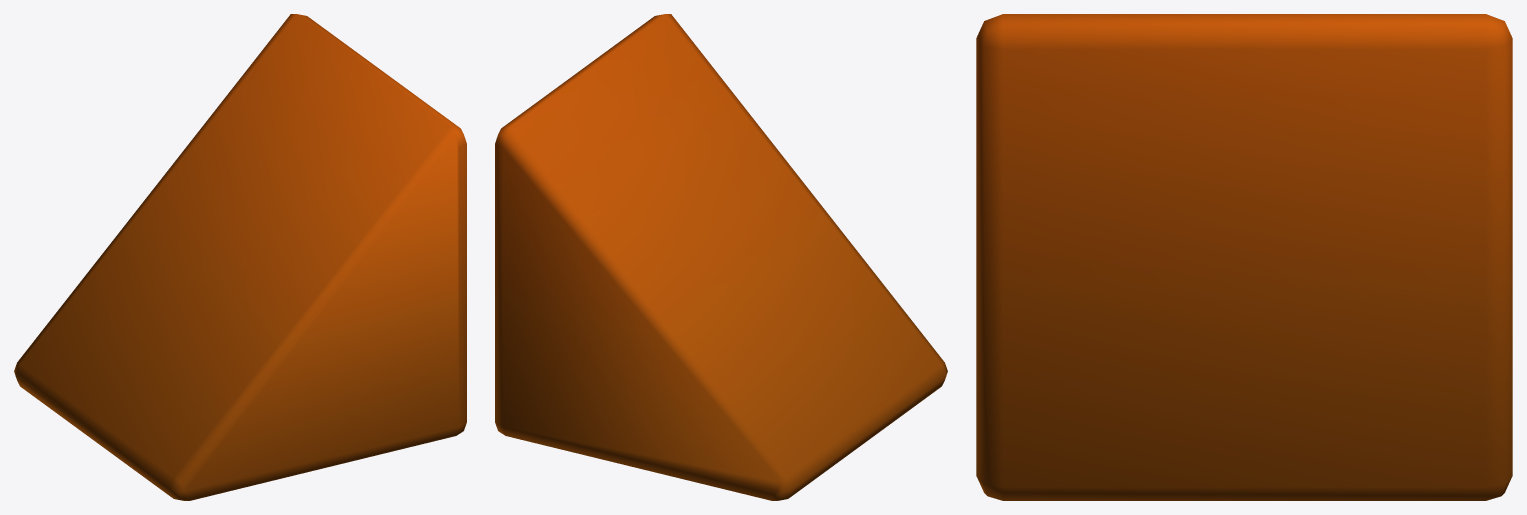
The model's file is 3D_Tile_Ground_Slope_04.fbx.
3 renders of one model, left to right at view 1: azimuth 30°, elevation 25°; view 2: azimuth 150°, elevation 25°; view 3: azimuth 270°, elevation 25°, orthographic. The views are drawn at different scales.
Parts seen in each view (by area): view 1: 3D_Tile_Ground_Slope_04; view 2: 3D_Tile_Ground_Slope_04; view 3: 3D_Tile_Ground_Slope_04.
Part boxes in pixels (x1,y1,x2,y2): 3D_Tile_Ground_Slope_04: (14,14,466,500); 3D_Tile_Ground_Slope_04: (495,14,947,500); 3D_Tile_Ground_Slope_04: (976,14,1512,500).
Bounding box in the file's own units: 200 × 200 × 200.
